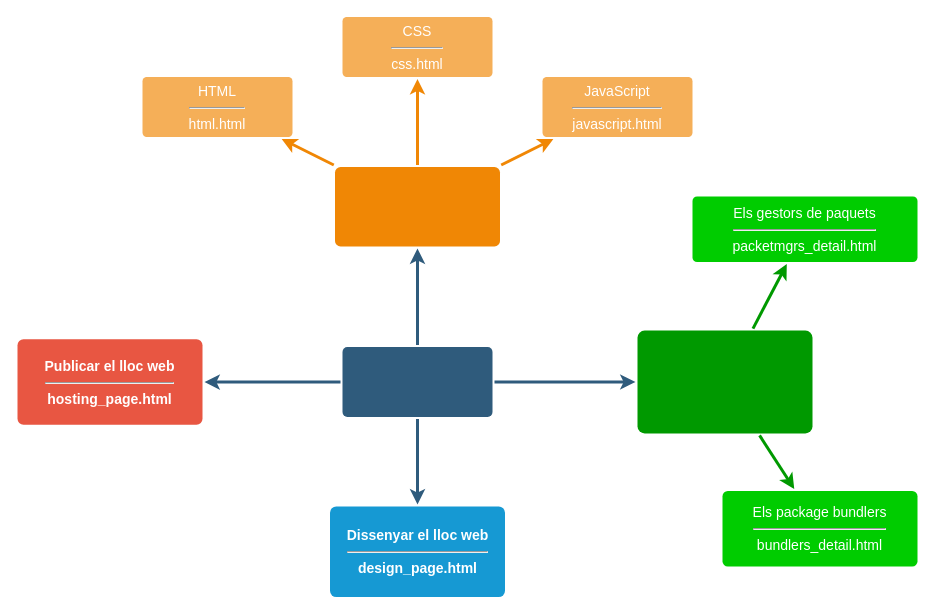
The diagram is 934 pixels wide and 614 high, and some of its shapes have lost their labels. Here are the shapes that lost their labels. From the top down, the box of each, then its label:
(334, 166, 500, 246): Escriure el codi languages_page.html
(342, 346, 492, 416): Home index.html
(637, 330, 812, 433): Preparar la distribució bundlers_page.html
